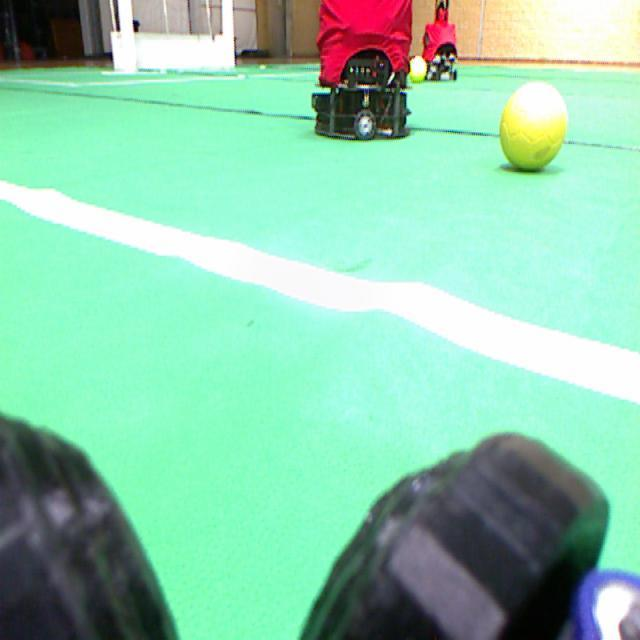ball: (499, 81, 567, 169), (409, 56, 426, 81)
goal: (119, 0, 136, 72), (222, 0, 234, 68)
